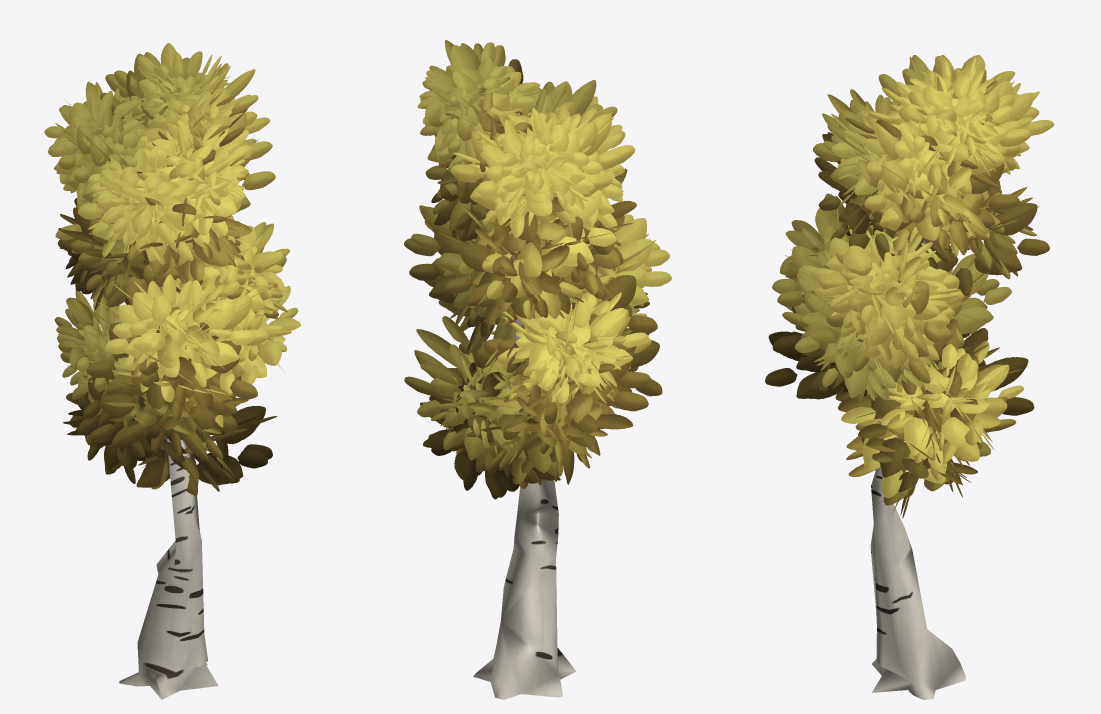
The model's file is tree_birch_autumn_far.glb.
The picture shows the model from 3 angles, left to right: view 1: azimuth 30°, elevation 25°; view 2: azimuth 150°, elevation 25°; view 3: azimuth 270°, elevation 25°; orthographic projection. The views are drawn at different scales.
Parts seen in each view (by area): view 1: Canopy, tree_birch_autumn_far; view 2: Canopy, tree_birch_autumn_far; view 3: Canopy, tree_birch_autumn_far.
Part boxes in pixels (bbox=[...]): Canopy: bbox=[44, 43, 300, 496]; tree_birch_autumn_far: bbox=[119, 435, 218, 699]; Canopy: bbox=[404, 40, 671, 499]; tree_birch_autumn_far: bbox=[473, 316, 575, 699]; Canopy: bbox=[765, 55, 1054, 518]; tree_birch_autumn_far: bbox=[870, 239, 965, 699].
Bounding box in the file's own units: 1.09 × 2.3 × 1.15.
2 materials, 2 textured.
